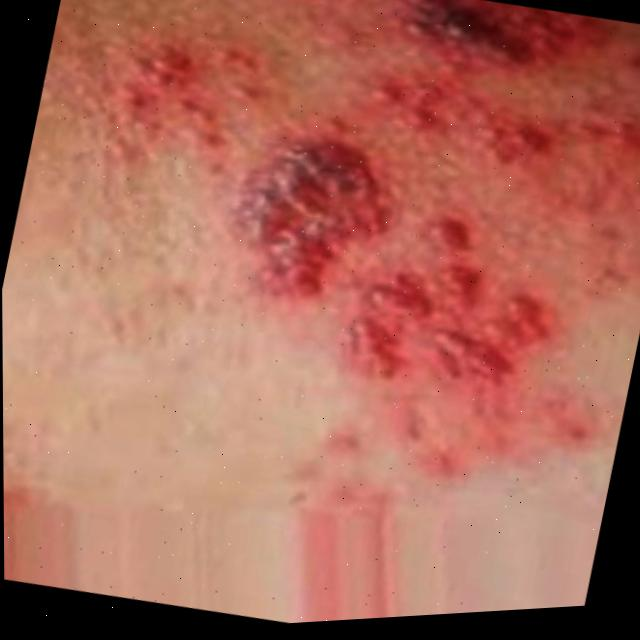Shingles: (177, 88, 582, 428), (345, 0, 640, 204), (79, 4, 271, 176)
